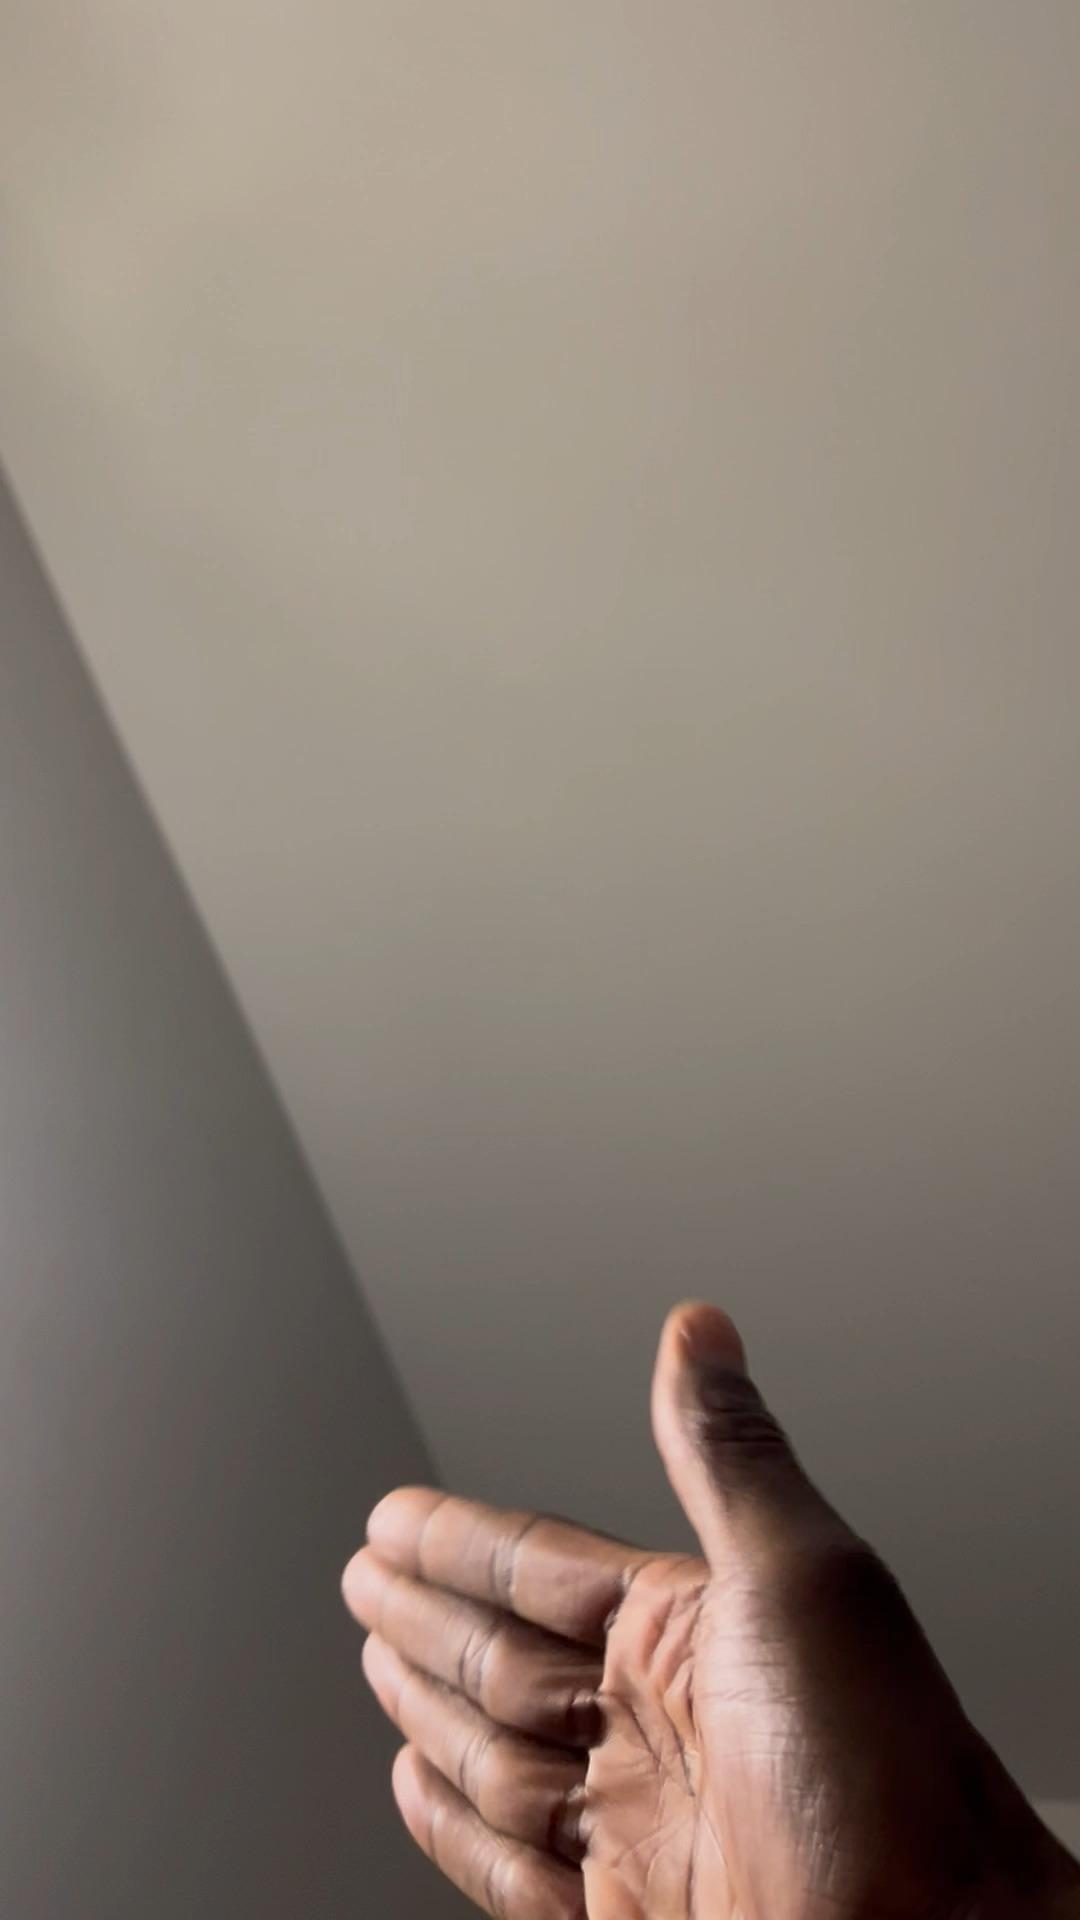Paper: (340, 1300, 1023, 1920)
